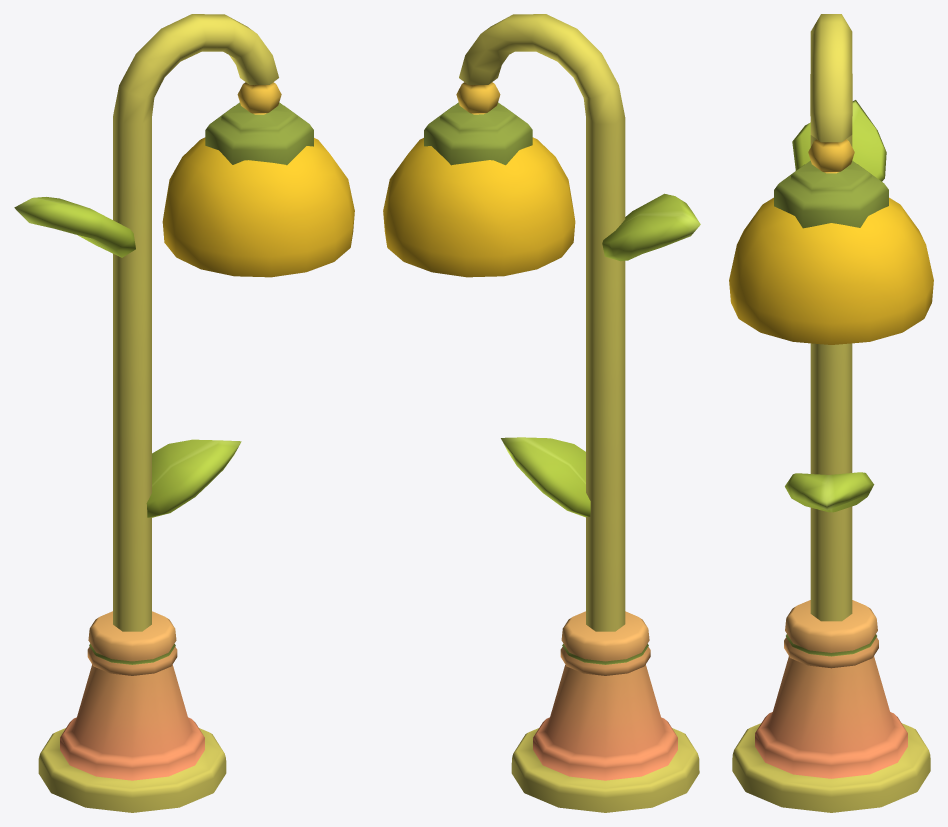
File: Homestead_nm_9.fbx
The picture shows the model from 3 angles, left to right: view 1: azimuth 30°, elevation 25°; view 2: azimuth 150°, elevation 25°; view 3: azimuth 270°, elevation 25°; orthographic projection. The views are drawn at different scales.
Visible parts, largest first — view 1: Homestead_nm_9; view 2: Homestead_nm_9; view 3: Homestead_nm_9.
Part boxes in pixels (box(x1,y1,x2,y2)): Homestead_nm_9: box(14, 14, 354, 812); Homestead_nm_9: box(383, 14, 700, 812); Homestead_nm_9: box(729, 14, 933, 812).
Size of the model in its own units: 188 by 418 by 99.32.
